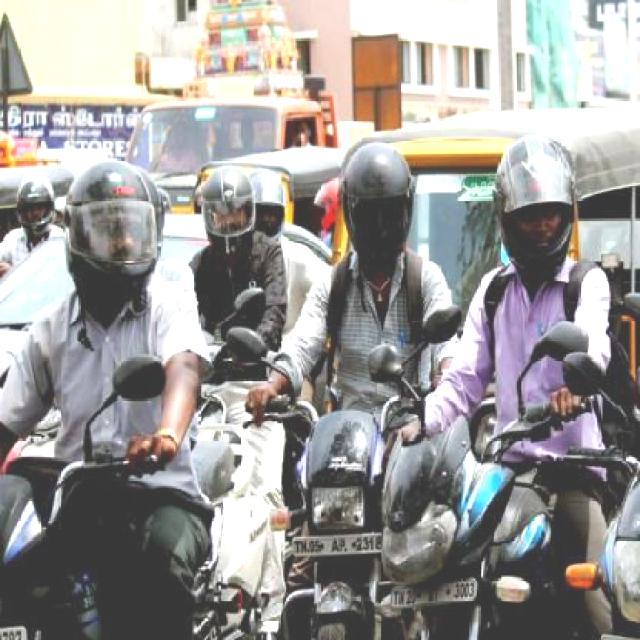With Helmet: (482, 124, 592, 294), (54, 152, 169, 312), (328, 130, 428, 285), (190, 157, 262, 266), (238, 163, 291, 252), (13, 176, 58, 247)
